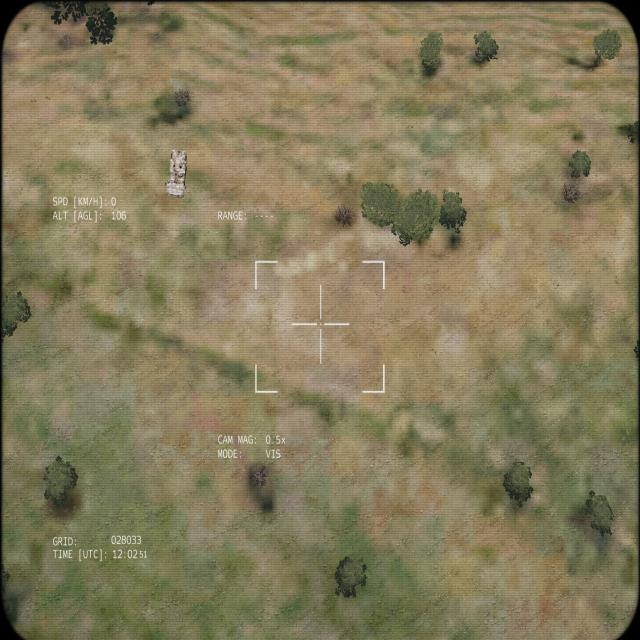apc: (163, 148, 186, 198)
